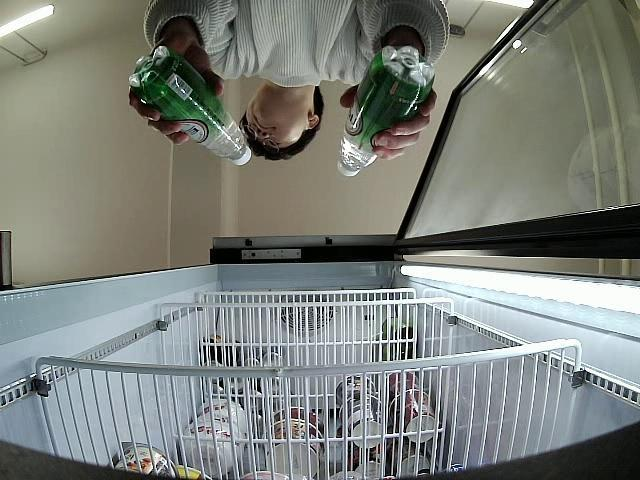18_trevi: (128, 43, 254, 168), (336, 45, 435, 177)
